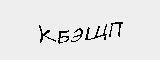Ж: (70, 24, 104, 43)
Н: (40, 24, 58, 40)
П: (123, 23, 141, 39)
У: (103, 25, 124, 40)
Ч: (20, 24, 39, 41)
Ұ: (58, 21, 73, 39)
